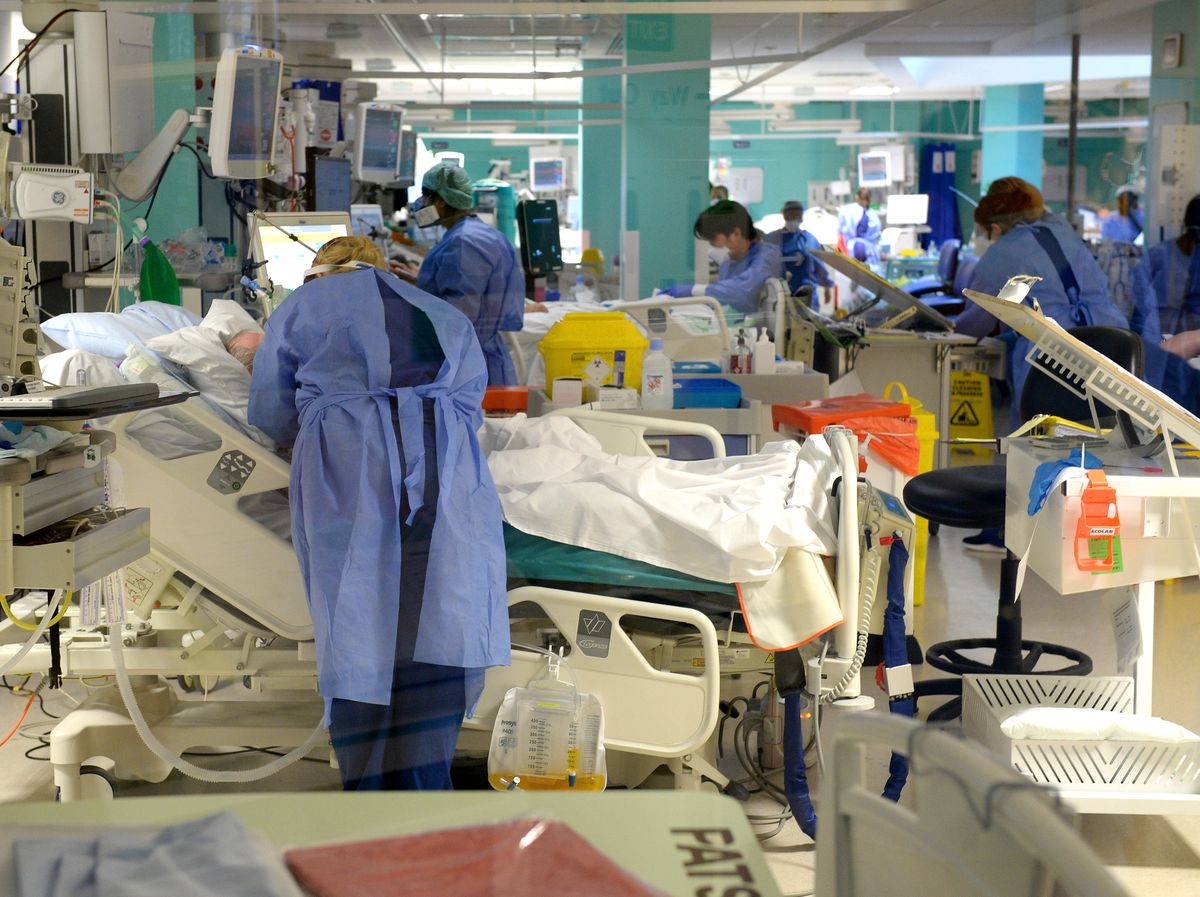bedrail: (96, 375, 313, 641), (455, 587, 723, 758), (543, 409, 729, 469), (596, 300, 732, 370)
bedside_monitor: (214, 56, 280, 175), (362, 102, 404, 180), (400, 129, 423, 191), (856, 157, 894, 185), (532, 158, 562, 192)
breathing_tube: (105, 566, 333, 785)
chair: (902, 462, 1092, 728)
drawer: (1, 439, 138, 586)
foot_board: (816, 426, 872, 692)
hospital_bed: (44, 298, 869, 758)
patient: (226, 330, 801, 490)
staff: (246, 233, 514, 790), (953, 176, 1137, 425), (417, 162, 524, 391), (661, 202, 791, 315), (1100, 183, 1169, 354), (1101, 180, 1167, 342), (1143, 189, 1200, 354), (764, 201, 837, 323)
